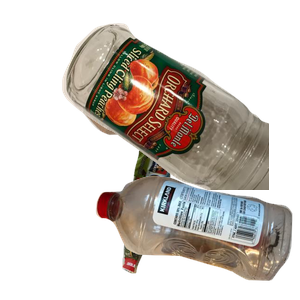cardboard: (74, 42, 225, 170)
glass: (60, 21, 300, 201)
plastic: (93, 173, 300, 300)
trash: (120, 131, 290, 300)
